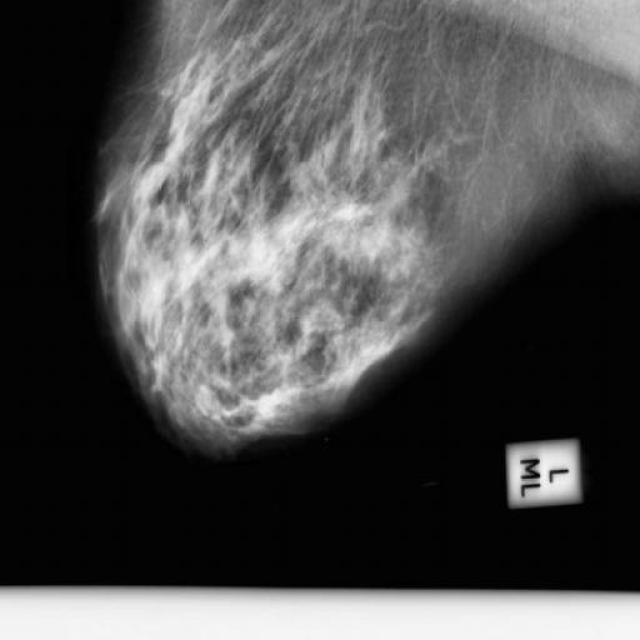cancer: (338, 108, 388, 174)
